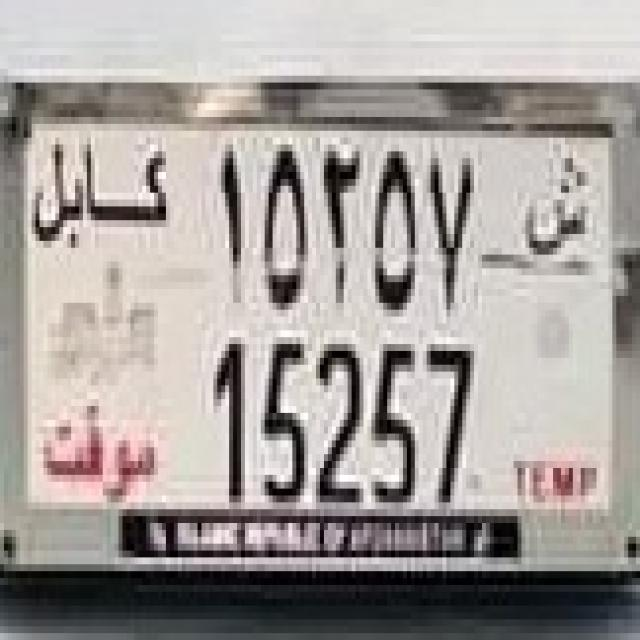Plate: (22, 121, 612, 517)
